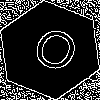O: (25, 25, 83, 83)
